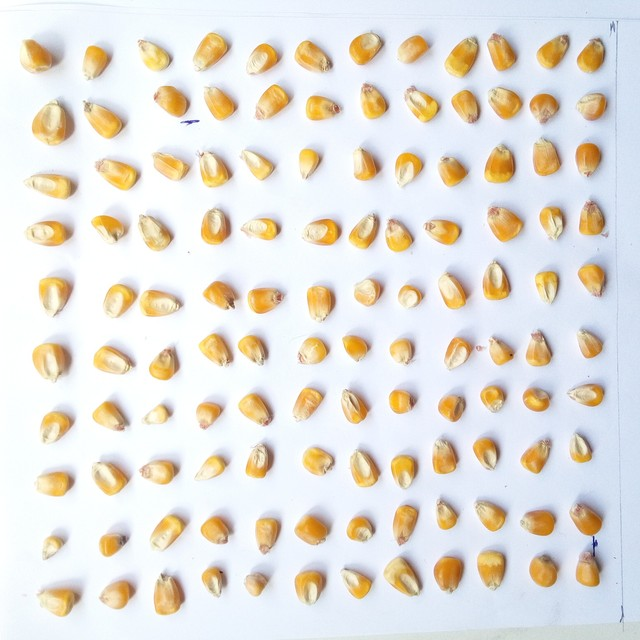maiz: (31, 91, 74, 149), (34, 271, 79, 323), (27, 339, 75, 385), (80, 94, 125, 141), (386, 553, 426, 604), (486, 202, 530, 247), (442, 33, 482, 82), (400, 81, 444, 125), (16, 33, 57, 79), (192, 147, 234, 191), (97, 279, 138, 324), (191, 27, 229, 75), (20, 170, 77, 202), (346, 203, 381, 255), (93, 156, 142, 193), (200, 81, 241, 123), (298, 281, 337, 325), (484, 141, 519, 189), (479, 257, 514, 305), (431, 551, 466, 599), (253, 82, 292, 125), (92, 339, 135, 378), (138, 210, 176, 254), (293, 36, 334, 76), (37, 408, 76, 450), (140, 284, 184, 321), (291, 569, 331, 609), (148, 146, 189, 185), (298, 215, 345, 249), (348, 26, 385, 69), (149, 573, 186, 616), (198, 329, 236, 370), (148, 511, 186, 552), (244, 281, 288, 316), (538, 201, 572, 246), (37, 585, 82, 619), (351, 273, 390, 312), (489, 83, 527, 123), (435, 270, 473, 310), (139, 453, 180, 490), (469, 432, 506, 473), (565, 425, 602, 466), (537, 29, 573, 71), (529, 136, 565, 178), (523, 327, 559, 369), (391, 149, 426, 192), (435, 147, 469, 191), (575, 195, 609, 239), (238, 144, 277, 182), (236, 391, 275, 429), (519, 433, 557, 472), (448, 87, 485, 127), (151, 82, 192, 118), (529, 266, 565, 307), (440, 333, 476, 374), (486, 332, 522, 373), (485, 33, 520, 75), (198, 205, 233, 247), (204, 277, 242, 315), (245, 38, 282, 77), (300, 441, 339, 478), (574, 85, 610, 125), (348, 142, 384, 182), (90, 398, 130, 434), (249, 515, 285, 555), (347, 447, 381, 489), (22, 217, 68, 248), (135, 35, 174, 71), (575, 36, 610, 76), (338, 385, 373, 425), (357, 79, 390, 121), (383, 215, 415, 258), (91, 458, 128, 495), (388, 281, 424, 319), (571, 141, 606, 180), (578, 260, 613, 299), (428, 436, 463, 475), (391, 502, 422, 546), (31, 466, 72, 499), (519, 505, 560, 538), (477, 549, 508, 592), (77, 44, 114, 80), (235, 331, 270, 369), (341, 328, 376, 366), (292, 513, 331, 547), (424, 214, 464, 247), (342, 564, 375, 604), (292, 385, 323, 427), (295, 334, 331, 370), (572, 325, 609, 360), (388, 450, 420, 490), (530, 551, 562, 591), (304, 91, 341, 125), (473, 497, 507, 534), (148, 346, 180, 385), (192, 452, 227, 487), (521, 380, 555, 416), (198, 513, 232, 549), (569, 503, 606, 536), (245, 440, 276, 479), (528, 92, 562, 127), (101, 580, 137, 613), (398, 31, 430, 68), (88, 212, 125, 244), (241, 215, 280, 245), (568, 380, 608, 409), (480, 383, 515, 416), (200, 564, 230, 602), (193, 397, 224, 433), (294, 146, 323, 181), (94, 529, 129, 558), (343, 514, 378, 543), (579, 551, 605, 590), (437, 392, 468, 424), (435, 495, 462, 531), (390, 336, 420, 368), (389, 385, 419, 414), (245, 570, 271, 603), (143, 402, 174, 429), (42, 533, 67, 564)
